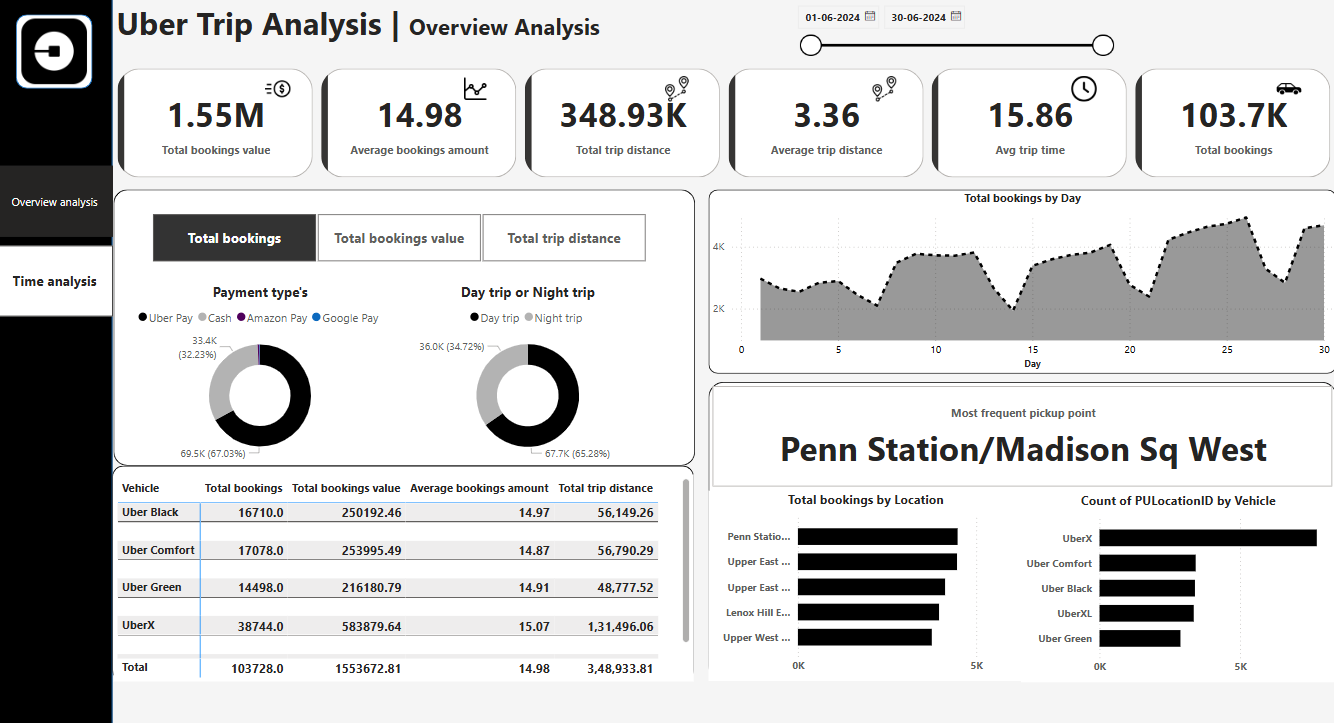

The page's visual inventory and layout, read from the dashboard file:
{"tool":"powerbi","page":{"name":"Overview analysis","canvas":[1600,900],"ordinal":0},"visuals":[{"type":"shape","box":[0,0,139.1,900.3],"z":0},{"type":"textbox","box":[138.6,0,601.4,77.1],"z":1000},{"type":"cardVisual","fields":{"Data":["Trip Details.Total bookings amount","Trip Details.Average bookings amount","Trip Details.Total trip distance","Trip Details.Average trip distance","Trip Details.Avg trip time","Trip Details.Total bookings"]},"box":[140,80,1460,140],"z":2000},{"type":"image","box":[315.7,90,40,40],"z":3000},{"type":"image","box":[794.3,90,40,40],"z":4000},{"type":"image","box":[1041.4,90,40,40],"z":5000},{"type":"image","box":[1278.6,90,40,40],"z":6000},{"type":"image","box":[552.9,90,40,40],"z":7000},{"type":"shape","box":[140,230,694.3,330],"z":8000},{"type":"image","box":[1524.3,90,40,40],"z":9000},{"type":"slicer","fields":{"Values":["Dynamic Measure.Dynamic Measure"]},"box":[161.4,252.9,638.6,70],"z":10000},{"type":"donutChart","title":"Payment type''s","fields":{"Y":["Trip Details.Total bookings"],"Category":["Trip Details.Payment_type"]},"box":[161.4,340,308.6,220],"z":11000},{"type":"donutChart","title":"Day trip or Night trip","fields":{"Y":["Trip Details.Total bookings"],"Category":["Trip Details.Trip type(Day/Night)"]},"box":[470,340,330,220],"z":12000},{"type":"shape","box":[138.6,560,694.3,257.1],"z":13000},{"type":"pivotTable","fields":{"Rows":["Trip Details.Vehicle"],"Values":["Trip Details.Total bookings","Trip Details.Total bookings value","Trip Details.Average bookings amount","Trip Details.Total trip distance"]},"box":[140,570,692.9,247.1],"z":14000},{"type":"shape","box":[850,230,750,220],"z":15000},{"type":"areaChart","fields":{"Category":["Calender table.Date.Variation.Date Hierarchy.Day"],"Y":["Trip Details.Total bookings"]},"box":[850,230,750,220],"z":16000},{"type":"shape","box":[850,460,750,357.1],"z":17000},{"type":"cardVisual","fields":{"Data":["Trip Details.Most frequent pickup point"]},"box":[850,460,750,130],"z":18000},{"type":"barChart","fields":{"Category":["Location Table.Location"],"Y":["Trip Details.Total bookings"]},"box":[850,590,375.7,227.1],"z":19000},{"type":"barChart","fields":{"Category":["Trip Details.Vehicle"],"Y":["CountNonNull(Trip Details.PULocationID)"]},"box":[1224.3,591.4,375.7,227.1],"z":20000},{"type":"slicer","fields":{"Values":["Calender table.Date"]},"box":[944.3,0,398.6,80],"z":21000},{"type":"shape","box":[24.3,21.4,91.4,88.6],"z":22000},{"type":"image","box":[24.3,21.4,91.4,88.6],"z":23000},{"type":"pageNavigator","box":[0,201.4,140,180],"z":24000}]}

Visuals, with their boxes on the page's 1600x900 design canvas (x1, y1, x2, y2). These are canvas units, not pixel positions in the 1334x723 screenshot, which may show the page scaled, cropped or inside an application window:
shape: Rect(0, 0, 139, 900)
textbox: Rect(139, 0, 740, 77)
cardVisual - Trip Details.Total bookings amount x Trip Details.Average bookings amount: Rect(140, 80, 1600, 220)
image: Rect(316, 90, 356, 130)
image: Rect(794, 90, 834, 130)
image: Rect(1041, 90, 1081, 130)
image: Rect(1279, 90, 1319, 130)
image: Rect(553, 90, 593, 130)
shape: Rect(140, 230, 834, 560)
image: Rect(1524, 90, 1564, 130)
slicer - Dynamic Measure.Dynamic Measure: Rect(161, 253, 800, 323)
"Payment type''s" donutChart: Rect(161, 340, 470, 560)
"Day trip or Night trip" donutChart: Rect(470, 340, 800, 560)
shape: Rect(139, 560, 833, 817)
pivotTable - Trip Details.Vehicle x Trip Details.Total bookings: Rect(140, 570, 833, 817)
shape: Rect(850, 230, 1600, 450)
areaChart - Calender table.Date.Variation.Date Hierarchy.Day x Trip Details.Total bookings: Rect(850, 230, 1600, 450)
shape: Rect(850, 460, 1600, 817)
cardVisual - Trip Details.Most frequent pickup point: Rect(850, 460, 1600, 590)
barChart - Location Table.Location x Trip Details.Total bookings: Rect(850, 590, 1226, 817)
barChart - Trip Details.Vehicle x CountNonNull(Trip Details.PULocationID): Rect(1224, 591, 1600, 818)
slicer - Calender table.Date: Rect(944, 0, 1343, 80)
shape: Rect(24, 21, 116, 110)
image: Rect(24, 21, 116, 110)
pageNavigator: Rect(0, 201, 140, 381)
